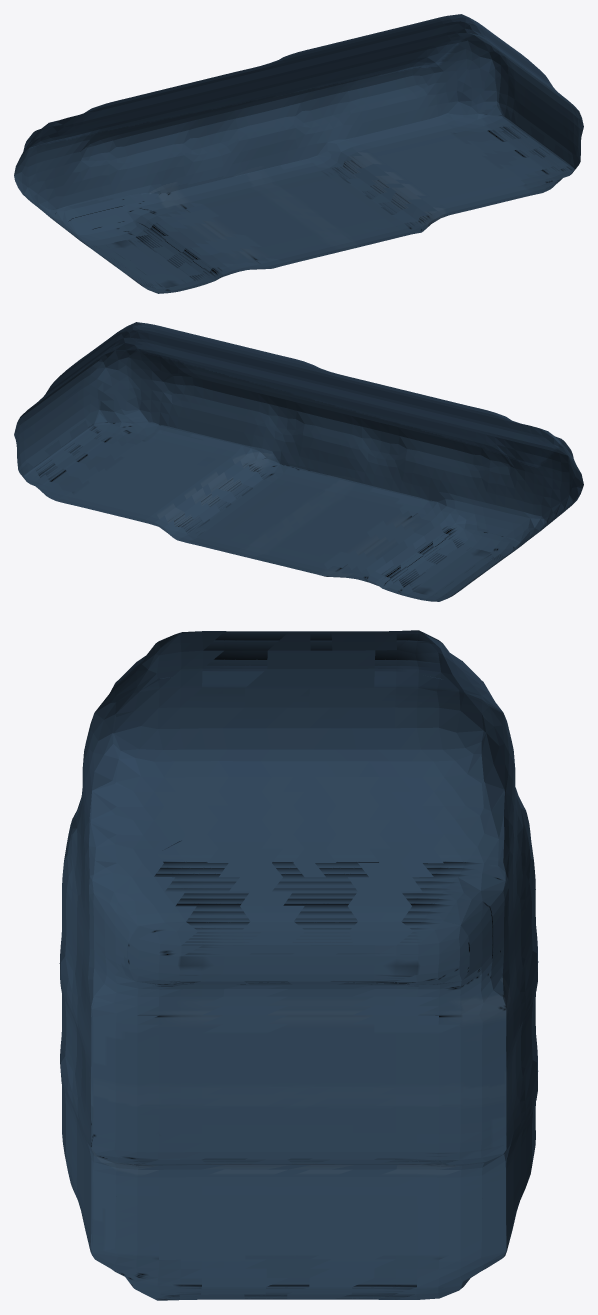
3 renders of one model, top to bottom at view 1: azimuth 30°, elevation 25°; view 2: azimuth 150°, elevation 25°; view 3: azimuth 270°, elevation 25°, orthographic. The views are drawn at different scales.
Parts seen in each view (by area): view 1: model; view 2: model; view 3: model.
Part boxes in pixels (<box>): model: <box>14,14,583,293</box>; model: <box>14,322,583,601</box>; model: <box>59,630,538,1300</box>.
Bounding box in the file's own units: 1 × 0.2911 × 0.4238.
1 material, 1 textured.
